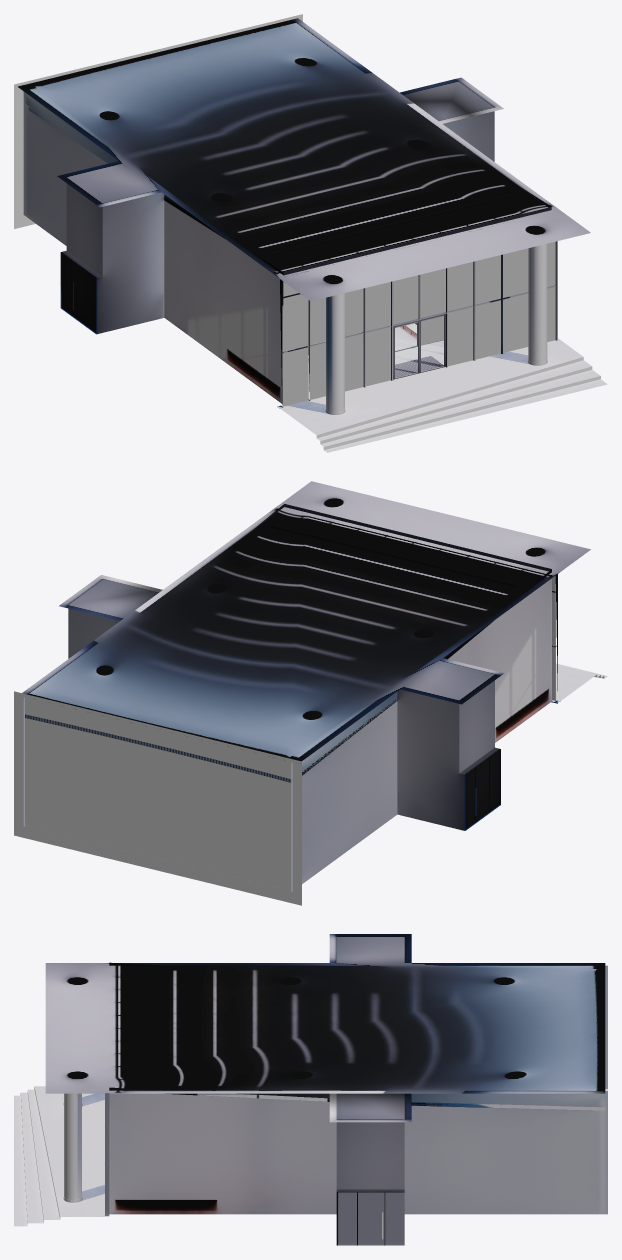
The model's file is lobby_again.fbx.
3 renders of one model, top to bottom at view 1: azimuth 30°, elevation 25°; view 2: azimuth 150°, elevation 25°; view 3: azimuth 270°, elevation 25°, orthographic. The views are drawn at different scales.
Parts seen in each view (by area): view 1: floor, walls, glass, doors, Plane; view 2: floor, Plane, walls, doors; view 3: floor, walls, doors.
Part boxes in pixels (box(x1,y1,x2,y2)): floor: box(18, 18, 607, 452); walls: box(23, 91, 547, 414); glass: box(282, 241, 555, 406); doors: box(60, 222, 557, 408); Plane: box(14, 14, 302, 228); floor: box(22, 481, 607, 782); Plane: box(14, 691, 301, 905); walls: box(23, 578, 551, 891); doors: box(464, 574, 560, 830); floor: box(14, 934, 605, 1226); walls: box(63, 965, 607, 1245); doors: box(105, 1093, 404, 1245).
Bounding box in the file's own units: 1960 × 672 × 2615.
